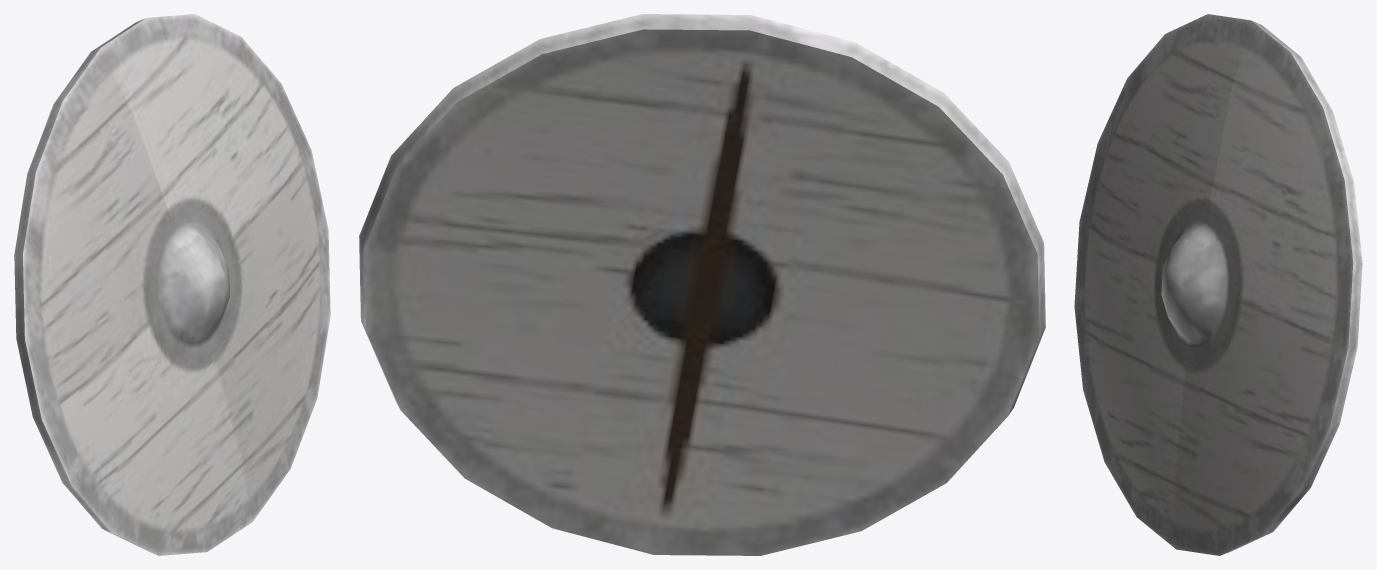
The model's file is shield-base.glb.
3 renders of one model, left to right at view 1: azimuth 30°, elevation 25°; view 2: azimuth 150°, elevation 25°; view 3: azimuth 270°, elevation 25°, orthographic. The views are drawn at different scales.
Size of the model in its own units: 0.5878 by 0.6317 by 0.3484.
1 material, 1 textured.
